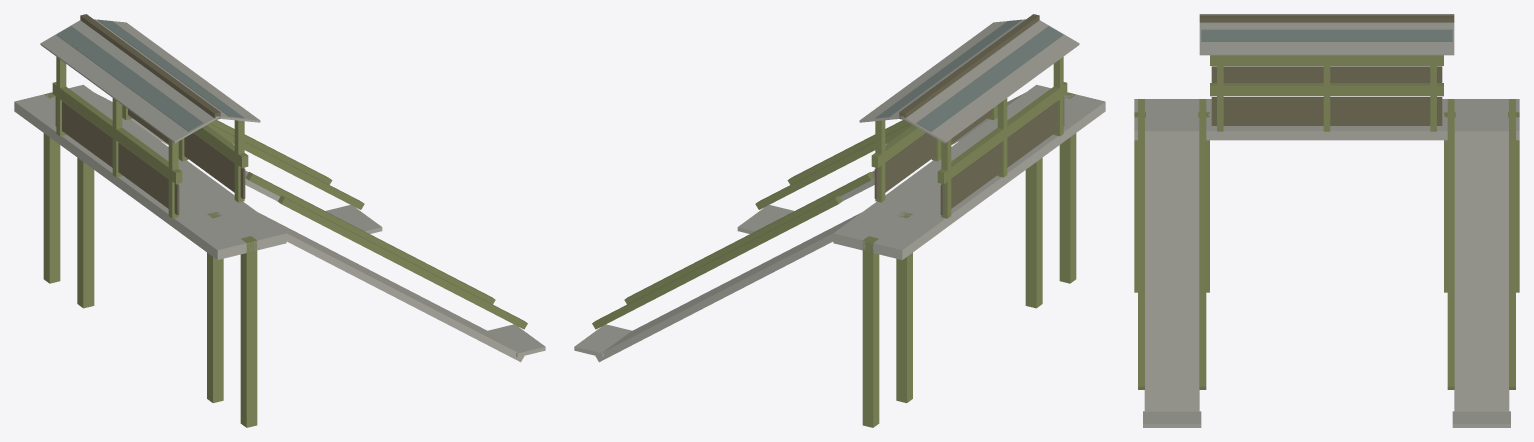
The model's file is SM_KitPaso_v3_LOD1.fbx.
The picture shows the model from 3 angles, left to right: view 1: azimuth 30°, elevation 25°; view 2: azimuth 150°, elevation 25°; view 3: azimuth 270°, elevation 25°; orthographic projection. The views are drawn at different scales.
Visible parts, largest first — view 1: SM_bloques.kit_paso_v3_LOD1; view 2: SM_bloques.kit_paso_v3_LOD1; view 3: SM_bloques.kit_paso_v3_LOD1.
Part boxes in pixels (bbox=[...]): SM_bloques.kit_paso_v3_LOD1: bbox=[14, 14, 545, 427]; SM_bloques.kit_paso_v3_LOD1: bbox=[574, 14, 1105, 427]; SM_bloques.kit_paso_v3_LOD1: bbox=[1134, 14, 1519, 427].
Size of the model in its own units: 10.86 by 8.97 by 11.2.
